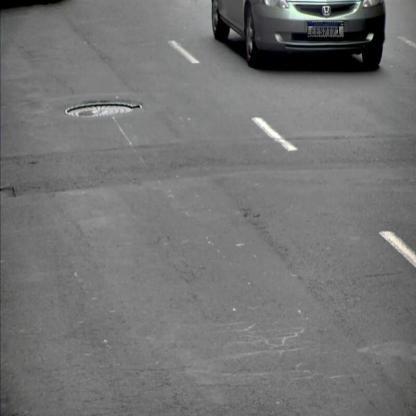PlacaM: (308, 22, 344, 38)
